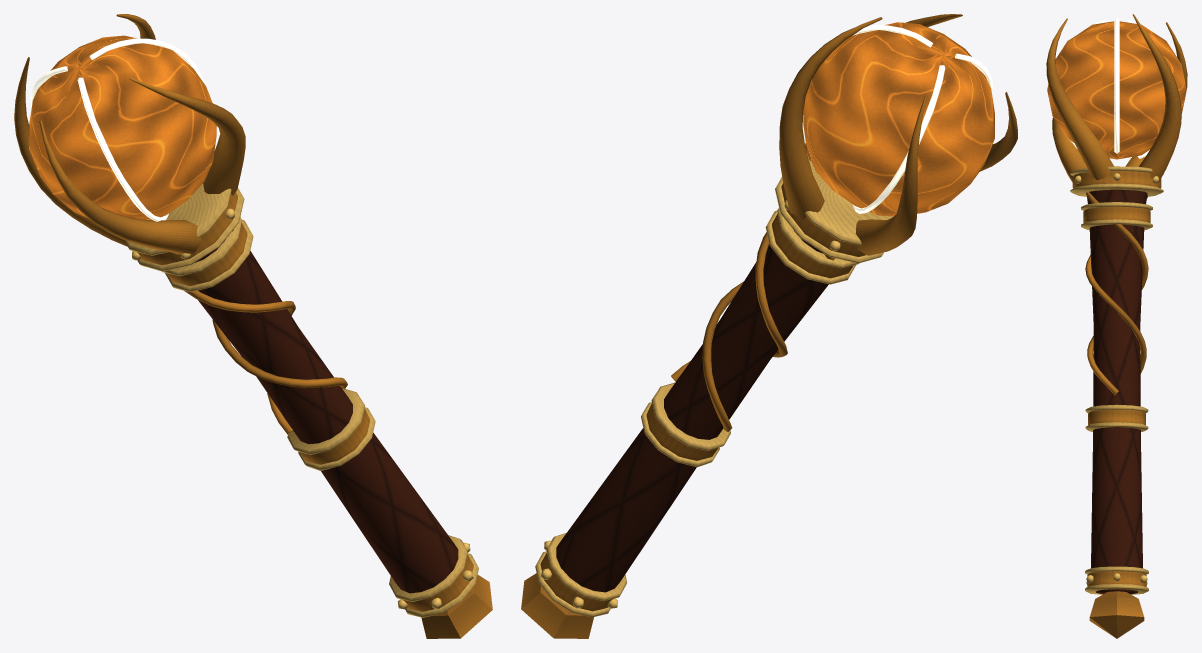
Rendered from fire_rod.glb.
3 renders of one model, left to right at view 1: azimuth 30°, elevation 25°; view 2: azimuth 150°, elevation 25°; view 3: azimuth 270°, elevation 25°, orthographic. The views are drawn at different scales.
Visible parts, largest first — view 1: Luminous focus, Wrapped shaft, Crown talon (×3), Collar edge (×7), Engraved collar (×4), Winding metal inlay (×2), Pommel, Focus surface arc (×2); view 2: Luminous focus, Wrapped shaft, Crown talon (×3), Collar edge (×7), Engraved collar (×4), Winding metal inlay (×2), Pommel, Focus surface arc; view 3: Wrapped shaft, Luminous focus, Crown talon (×4), Collar edge (×8), Engraved collar (×4), Pommel, Winding metal inlay (×2), Focus surface arc.
Boxes of the visible parts, x1,y1,x2,y2 form: Luminous focus: (29,35,216,220); Wrapped shaft: (195,239,458,593); Crown talon (×3): (14,57,245,254); Collar edge (×7): (125,183,467,601); Engraved collar (×4): (136,192,473,611); Winding metal inlay (×2): (184,229,347,434); Pommel: (421,575,492,638); Focus surface arc (×2): (77,38,204,221); Luminous focus: (803,22,994,216); Wrapped shaft: (556,230,828,592); Crown talon (×3): (779,17,1017,255); Collar edge (×7): (546,152,893,601); Engraved collar (×4): (540,183,865,611); Winding metal inlay (×2): (671,232,835,431); Pommel: (521,573,593,638); Focus surface arc: (852,65,945,213); Wrapped shaft: (1087,189,1147,594); Luminous focus: (1047,21,1186,159); Crown talon (×4): (1046,14,1187,182); Collar edge (×8): (1070,166,1163,594); Engraved collar (×4): (1072,170,1161,586); Pommel: (1089,591,1144,638); Winding metal inlay (×2): (1085,191,1148,395); Focus surface arc: (1114,18,1119,153).
Size of the model in its own units: 267 by 382 by 97.
5 materials, 4 textured.
